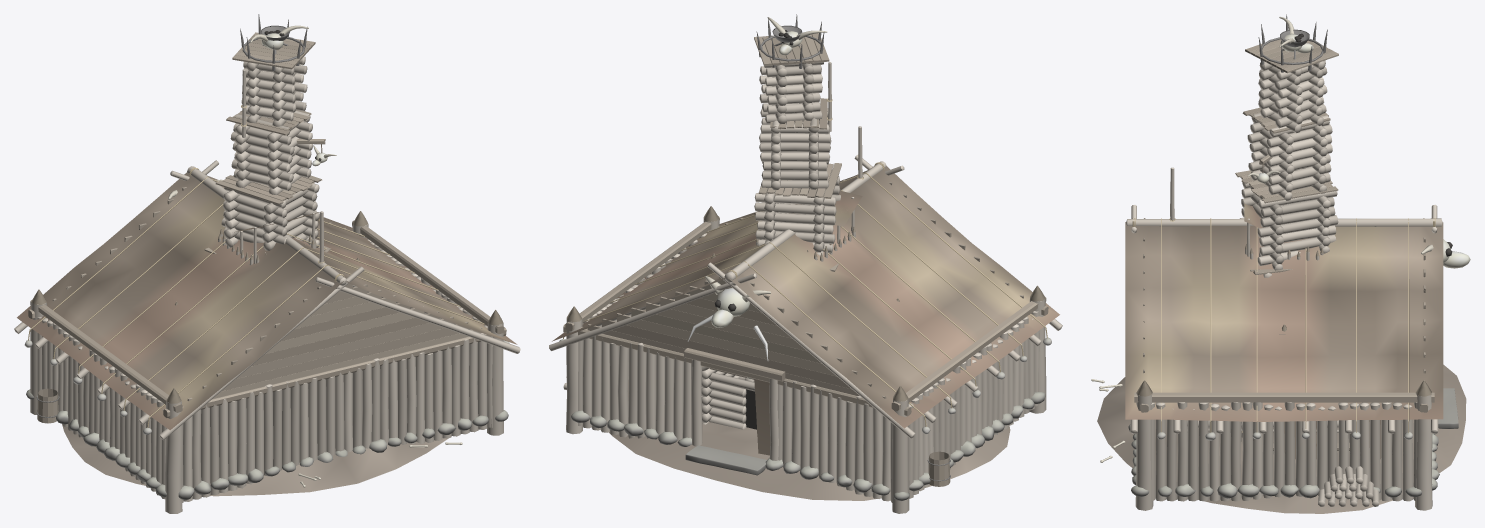
Rendered from ork_hold.glb.
The picture shows the model from 3 angles, left to right: view 1: azimuth 30°, elevation 25°; view 2: azimuth 150°, elevation 25°; view 3: azimuth 270°, elevation 25°; orthographic projection. The views are drawn at different scales.
Parts seen in each view (by area): view 1: hold_hall, hold_spire, hold_tower; view 2: hold_hall, hold_spire, hold_longhouse, hold_tower; view 3: hold_hall, hold_spire, hold_tower.
Boxes of the visible parts, x1,y1,x2,y2 form: hold_hall: [14, 160, 520, 513]; hold_spire: [204, 14, 336, 254]; hold_tower: [218, 212, 319, 265]; hold_hall: [549, 126, 1062, 513]; hold_spire: [738, 14, 841, 397]; hold_longhouse: [701, 366, 757, 433]; hold_tower: [756, 190, 862, 261]; hold_hall: [1091, 167, 1470, 513]; hold_spire: [1235, 14, 1338, 277]; hold_tower: [1244, 188, 1323, 260].
Bounding box in the file's own units: 12.98 × 13.23 × 10.86.
